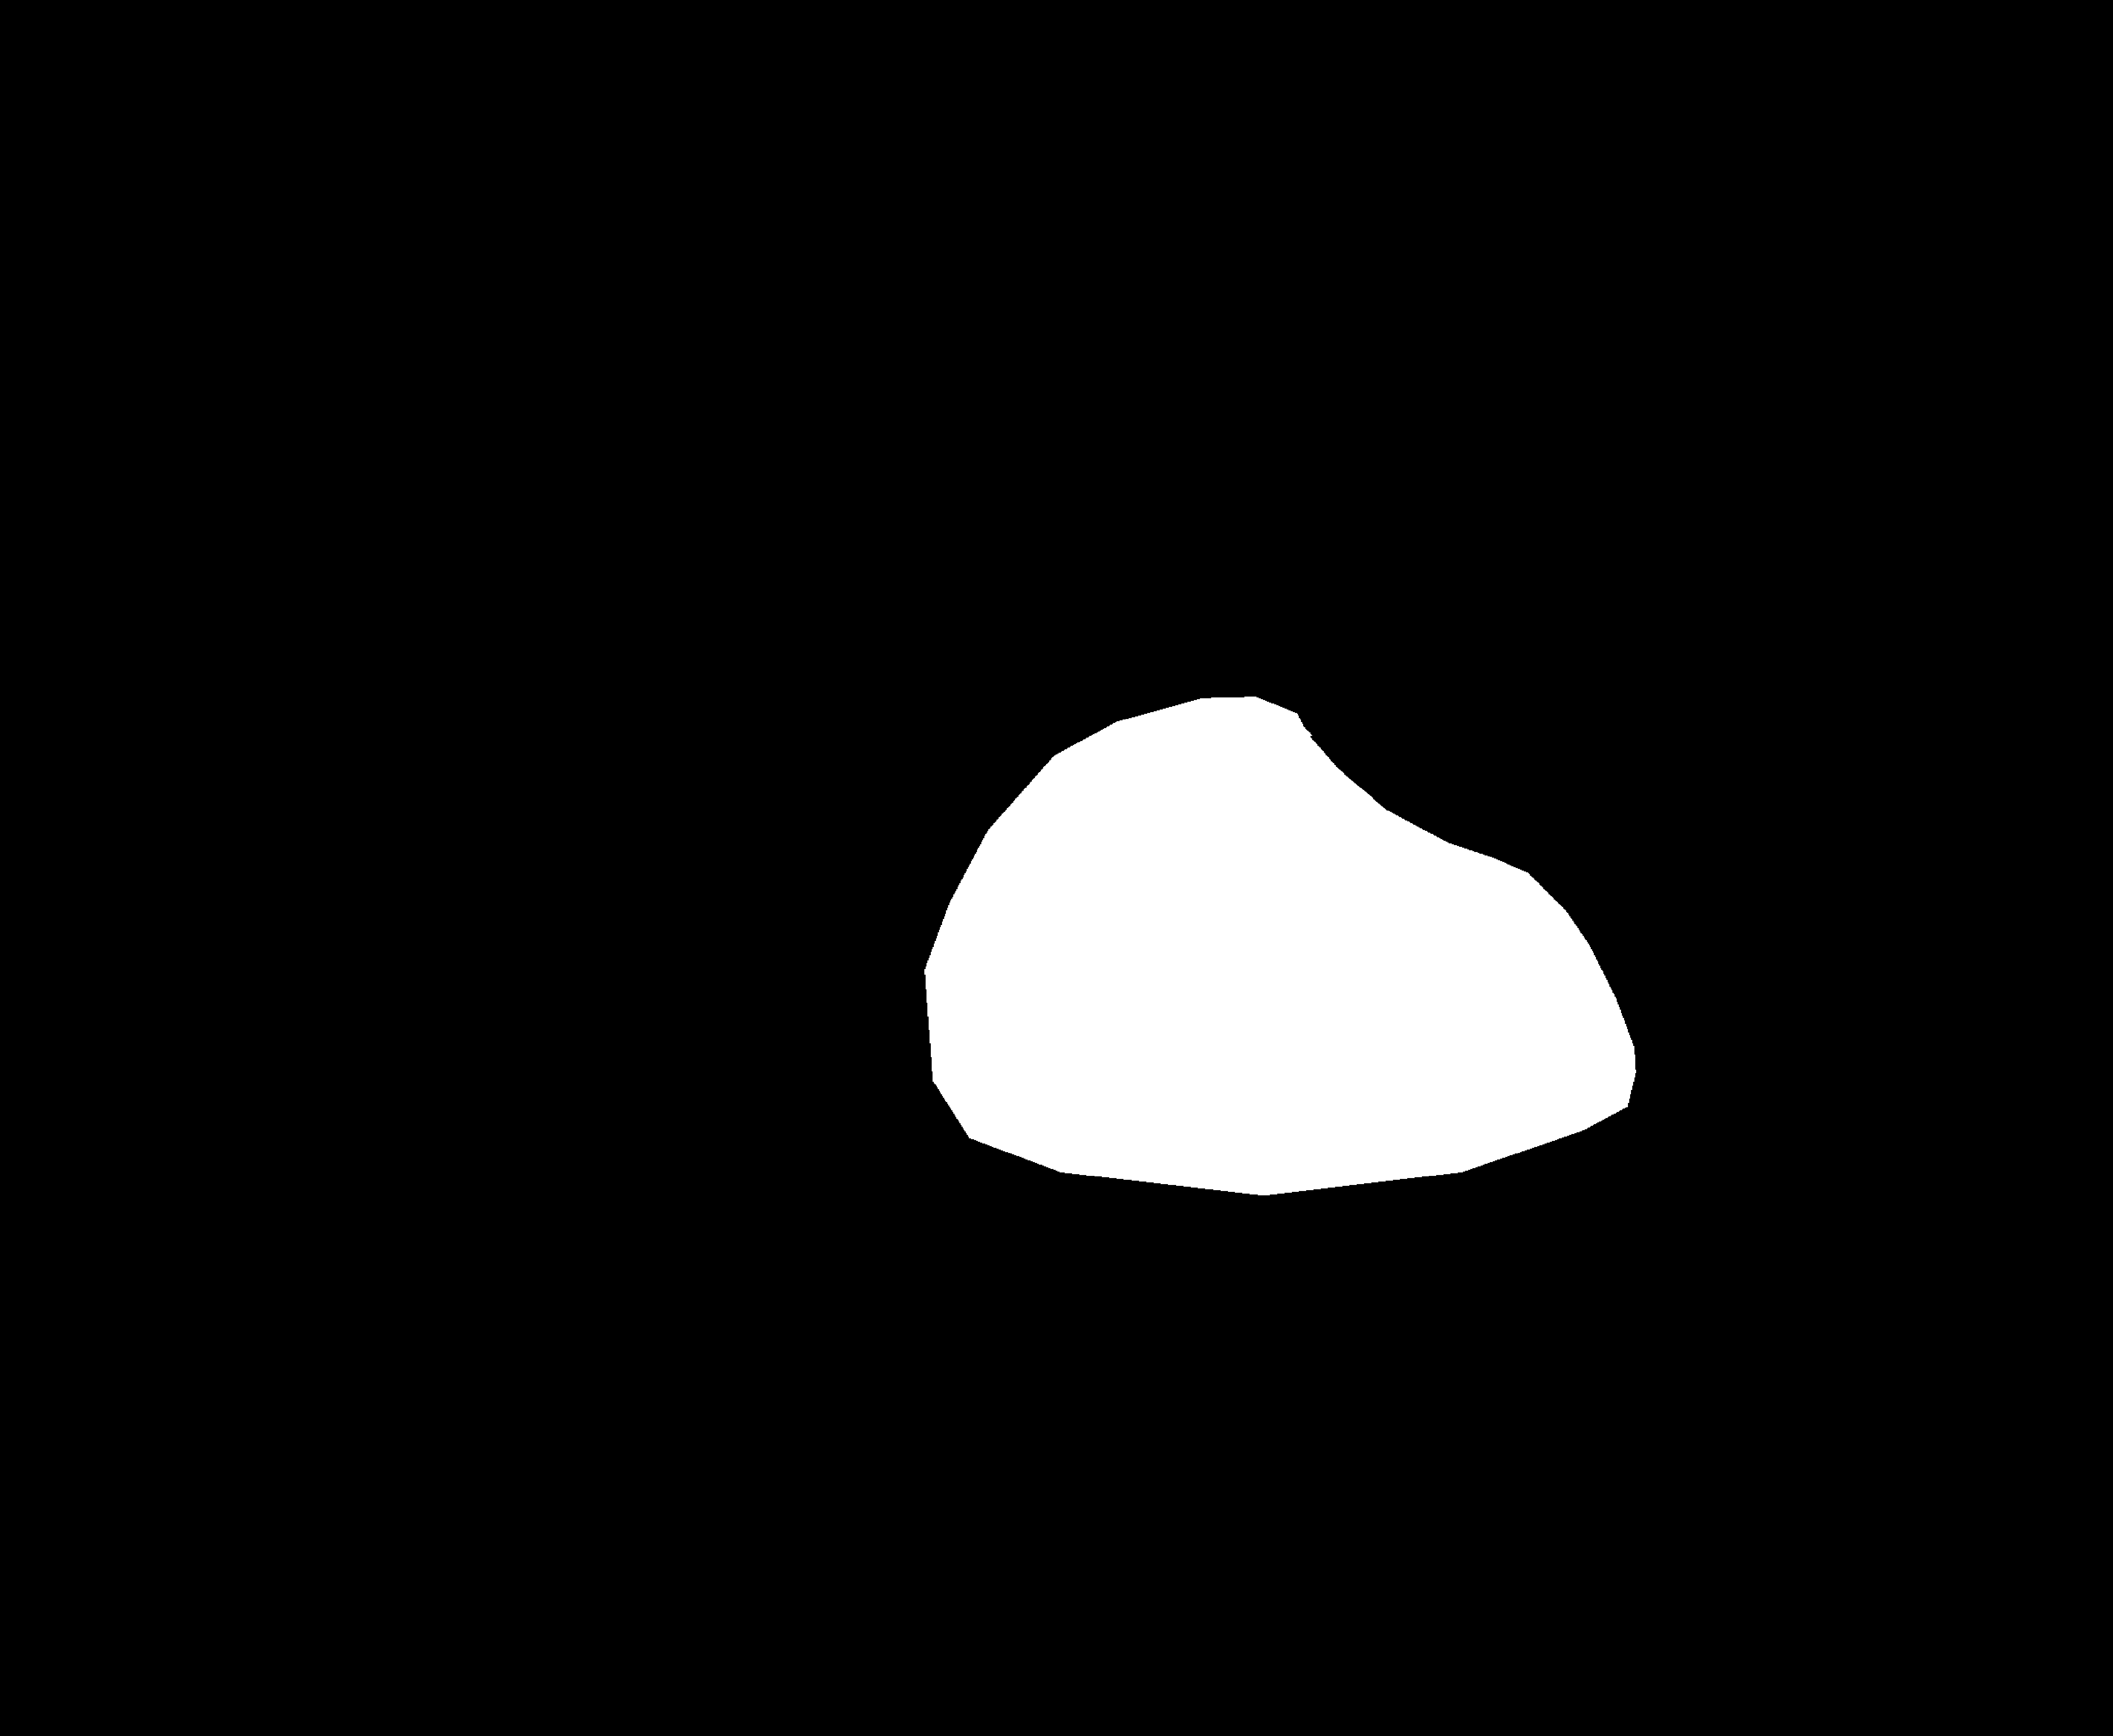heart: (907, 746, 1634, 1173)
left_lung: (370, 190, 1037, 1190)
right_lung: (1186, 167, 1815, 1190)
